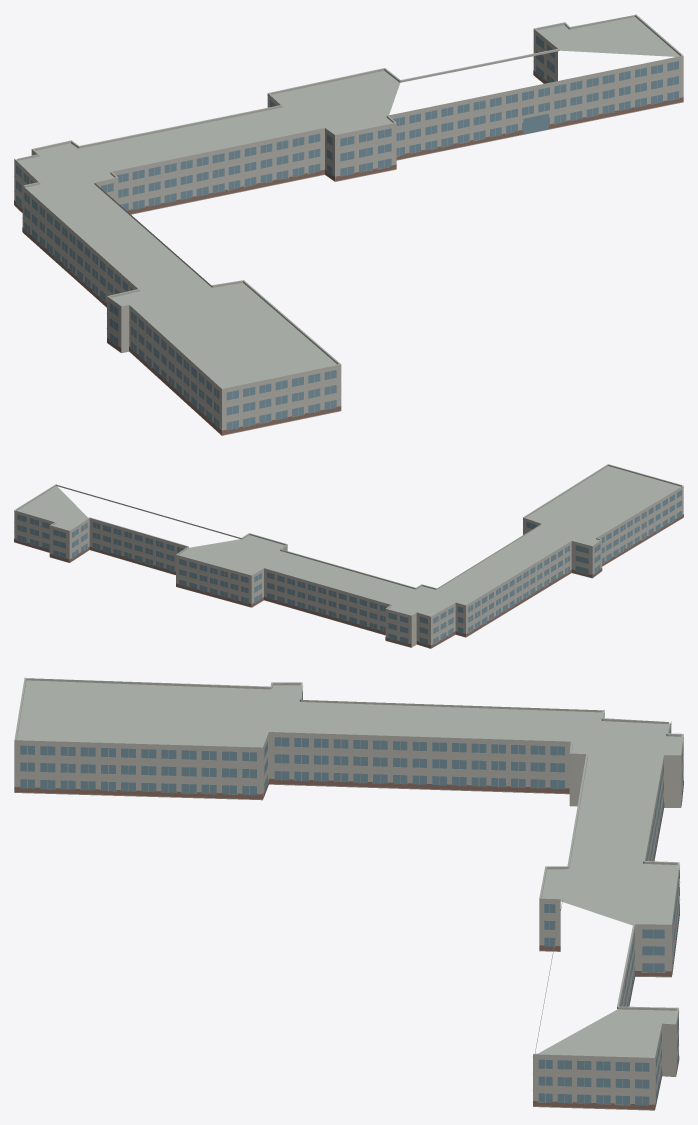
Rendered from public-cb7dee1b-8bd0-4962-8477-5e36feab3140.glb.
3 renders of one model, top to bottom at view 1: azimuth 30°, elevation 25°; view 2: azimuth 150°, elevation 25°; view 3: azimuth 270°, elevation 25°, orthographic. The views are drawn at different scales.
Parts seen in each view (by area): view 1: public-cb7dee1b-8bd0-4962-8477-5e36feab3140; view 2: public-cb7dee1b-8bd0-4962-8477-5e36feab3140; view 3: public-cb7dee1b-8bd0-4962-8477-5e36feab3140.
Boxes of the visible parts, x1,y1,x2,y2 form: public-cb7dee1b-8bd0-4962-8477-5e36feab3140: (14, 14, 683, 435); public-cb7dee1b-8bd0-4962-8477-5e36feab3140: (14, 464, 683, 648); public-cb7dee1b-8bd0-4962-8477-5e36feab3140: (14, 677, 683, 1110).
Bounding box in the file's own units: 142 × 9.15 × 105.
